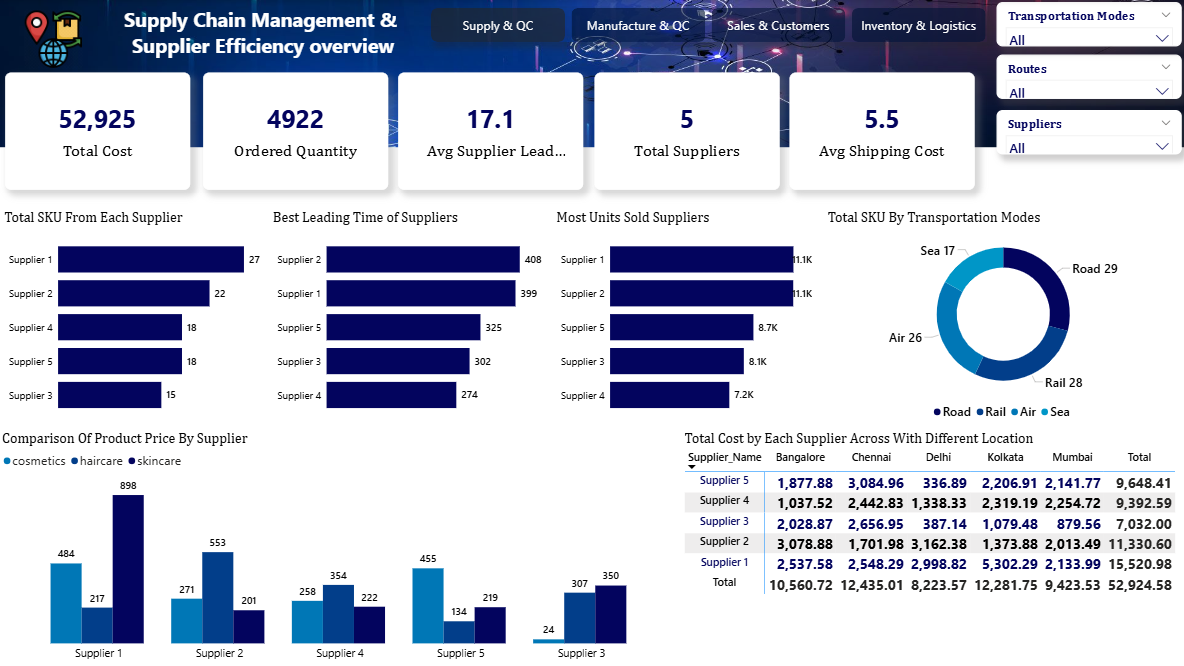

The dashboard page shown, as its layout file describes it:
{"tool":"powerbi","page":{"name":"Supply & QC","canvas":[1920,1080],"ordinal":0},"visuals":[{"type":"image","box":[0,0,1920,240],"z":0},{"type":"image","box":[0,16,176,96],"z":1000},{"type":"textbox","box":[168,6,520,96],"z":2000},{"type":"cardVisual","fields":{"Data":["supply_chain_data.Total Cost"]},"box":[10,120,300,190],"z":3000},{"type":"cardVisual","fields":{"Data":["supply_chain_data.Total Odered Quantity"]},"box":[330,120,300,190],"z":4000},{"type":"cardVisual","fields":{"Data":["supply_chain_data.Avg Supplier Lead Time"]},"box":[645,120,300,190],"z":5000},{"type":"cardVisual","fields":{"Data":["supply_chain_data.Total Suppliers"]},"box":[965,120,300,190],"z":6000},{"type":"clusteredBarChart","title":"Total SKU From Each Supplier","fields":{"Category":["supply_chain_data.Supplier_Name"],"Y":["supply_chain_data.Total SKU"]},"box":[0,336,432,360],"z":7000},{"type":"clusteredBarChart","title":"Best Leading Time of Suppliers","fields":{"Category":["supply_chain_data.Supplier_Name"],"Y":["supply_chain_data.Total Supplier Lead Time"]},"box":[435,336,456,360],"z":8000},{"type":"clusteredBarChart","title":"Most Units Sold Suppliers","fields":{"Category":["supply_chain_data.Supplier_Name"],"Y":["supply_chain_data.Total Units Sold"]},"box":[895,336,432,360],"z":9000},{"type":"clusteredColumnChart","title":"Comparison Of Product Price By Supplier","fields":{"Category":["supply_chain_data.Supplier_Name"],"Series":["supply_chain_data.Product_Type"],"Y":["supply_chain_data.Total Price"]},"box":[0,696,1104,384],"z":10000},{"type":"donutChart","title":"Total SKU By Transportation Modes","fields":{"Category":["supply_chain_data.Transportation_Modes"],"Y":["supply_chain_data.Total SKU"]},"box":[1334,336,586,360],"z":11000},{"type":"pivotTable","title":"Total Cost by Each Supplier Across With Different Location","fields":{"Rows":["supply_chain_data.Supplier_Name"],"Columns":["supply_chain_data.Location"],"Values":["supply_chain_data.Total Cost"]},"box":[1104,696,816,384],"z":12000},{"type":"slicer","fields":{"Values":["supply_chain_data.Routes"]},"box":[1615,90,300,72],"z":13000},{"type":"pageNavigator","box":[700,15,900,55],"z":14000},{"type":"cardVisual","fields":{"Data":["supply_chain_data.Avg Shipping Cost"]},"box":[1280,120,300,190],"z":15000},{"type":"slicer","fields":{"Values":["supply_chain_data.Transportation_Modes"]},"box":[1615,5,300,72],"z":16000},{"type":"slicer","fields":{"Values":["supply_chain_data.Supplier_Name"]},"box":[1615,180,300,72],"z":17000}]}

Visuals, with their boxes in screenshot pixels (x1, y1, x2, y2), scaled from the page's 1920x1080 canvas onto the 1184x666 screenshot:
image: box(0, 0, 1183, 148)
image: box(0, 10, 109, 69)
textbox: box(104, 4, 424, 63)
cardVisual - supply_chain_data.Total Cost: box(6, 74, 191, 191)
cardVisual - supply_chain_data.Total Odered Quantity: box(204, 74, 388, 191)
cardVisual - supply_chain_data.Avg Supplier Lead Time: box(398, 74, 583, 191)
cardVisual - supply_chain_data.Total Suppliers: box(595, 74, 780, 191)
"Total SKU From Each Supplier" clusteredBarChart: box(0, 207, 266, 429)
"Best Leading Time of Suppliers" clusteredBarChart: box(268, 207, 549, 429)
"Most Units Sold Suppliers" clusteredBarChart: box(552, 207, 818, 429)
"Comparison Of Product Price By Supplier" clusteredColumnChart: box(0, 429, 681, 665)
"Total SKU By Transportation Modes" donutChart: box(823, 207, 1183, 429)
"Total Cost by Each Supplier Across With Different Location" pivotTable: box(681, 429, 1183, 665)
slicer - supply_chain_data.Routes: box(996, 56, 1181, 100)
pageNavigator: box(432, 9, 987, 43)
cardVisual - supply_chain_data.Avg Shipping Cost: box(789, 74, 974, 191)
slicer - supply_chain_data.Transportation_Modes: box(996, 3, 1181, 47)
slicer - supply_chain_data.Supplier_Name: box(996, 111, 1181, 155)
